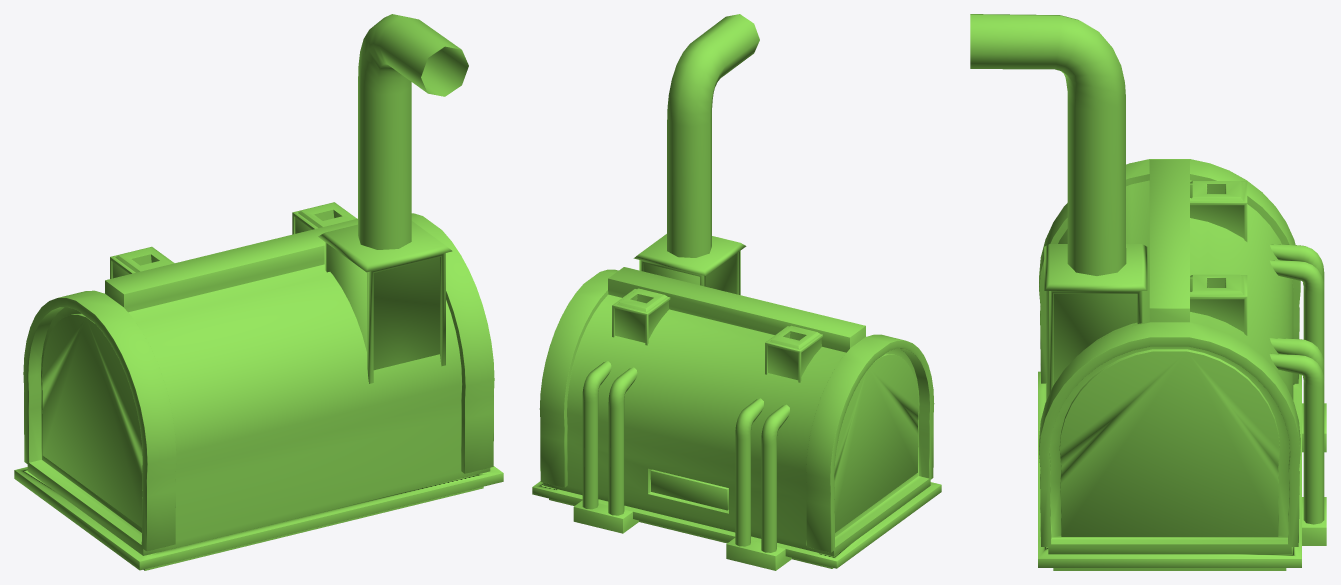
The model's file is Machinerie.fbx.
The picture shows the model from 3 angles, left to right: view 1: azimuth 30°, elevation 25°; view 2: azimuth 150°, elevation 25°; view 3: azimuth 270°, elevation 25°; orthographic projection. The views are drawn at different scales.
Parts seen in each view (by area): view 1: Machinerie1_Lp001; view 2: Machinerie1_Lp001; view 3: Machinerie1_Lp001.
Boxes of the visible parts, x1,y1,x2,y2 form: Machinerie1_Lp001: [14, 14, 503, 570]; Machinerie1_Lp001: [532, 14, 941, 570]; Machinerie1_Lp001: [970, 14, 1326, 570].
Size of the model in its own units: 67.72 by 87.06 by 54.53.
